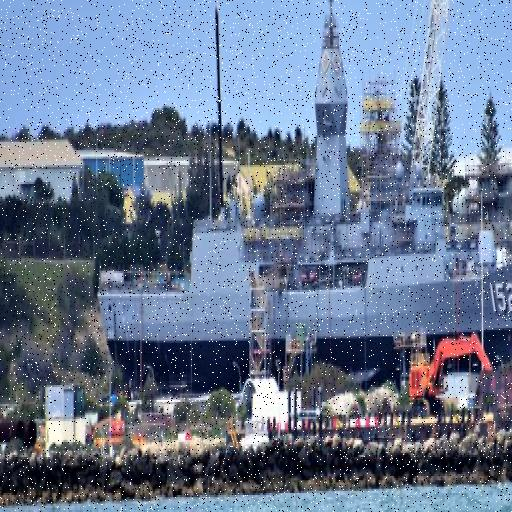Fragata: (92, 1, 512, 401)
